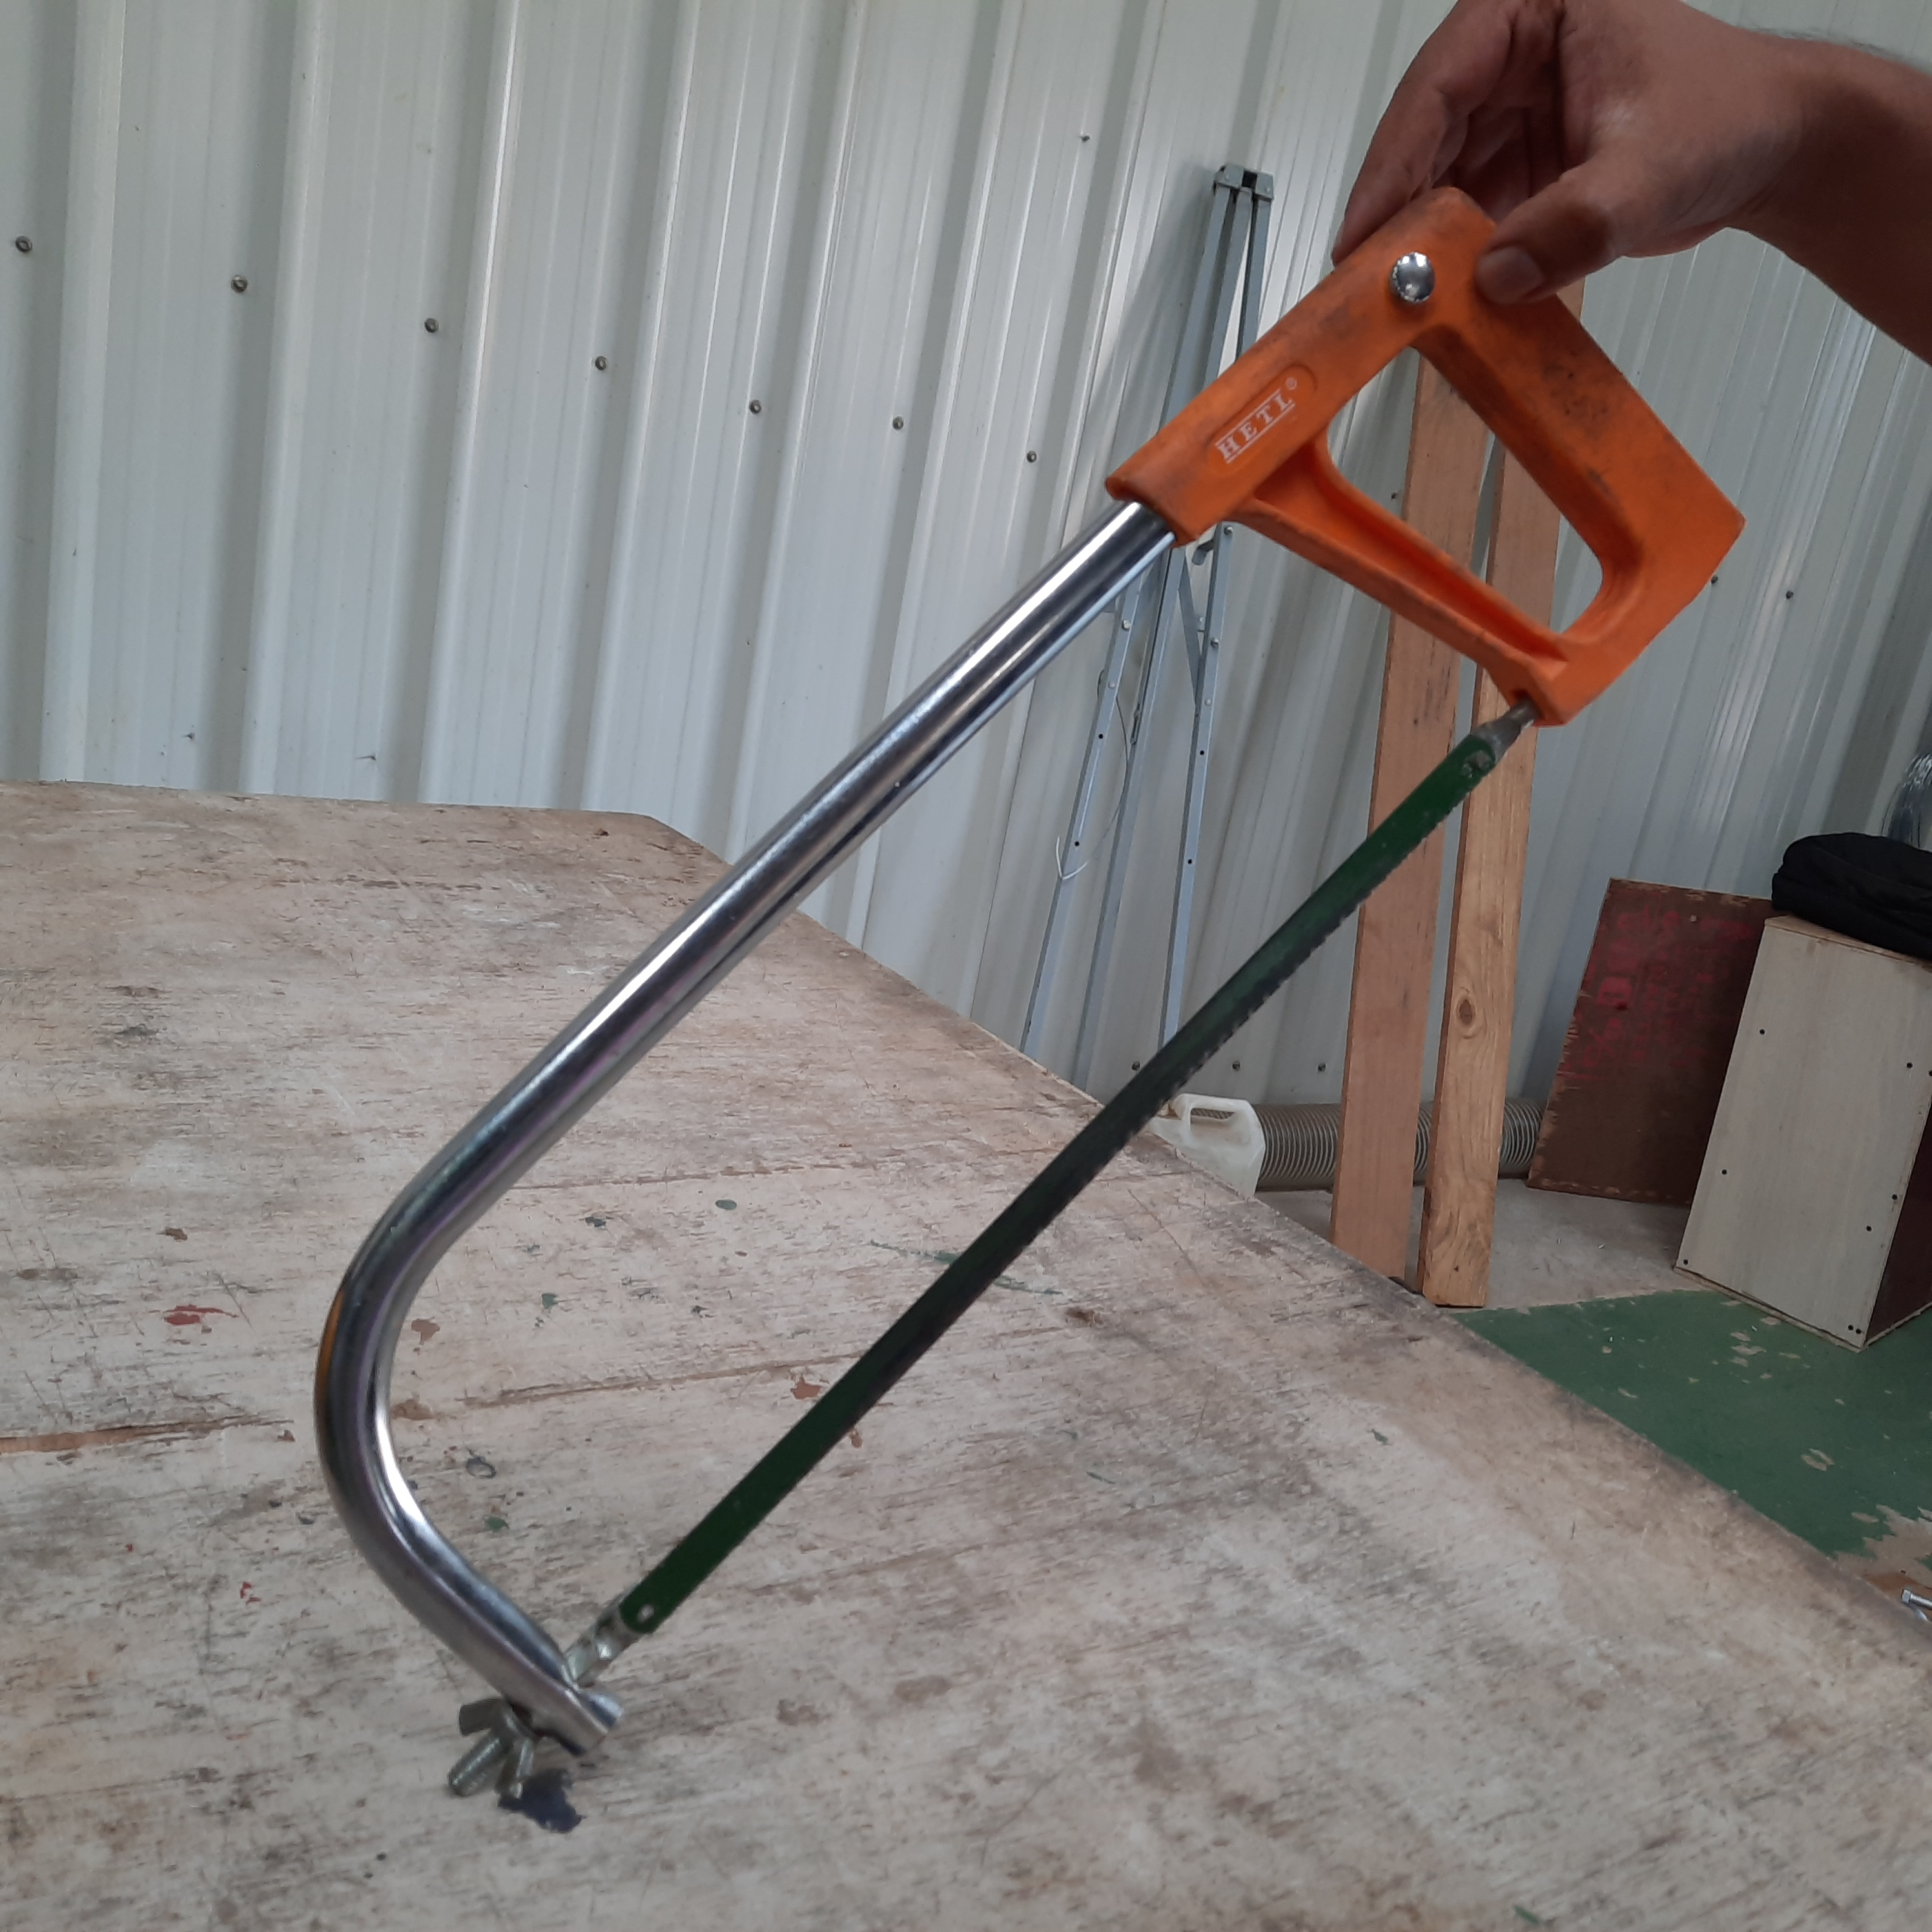Hexaframe: (283, 173, 1753, 1932)
